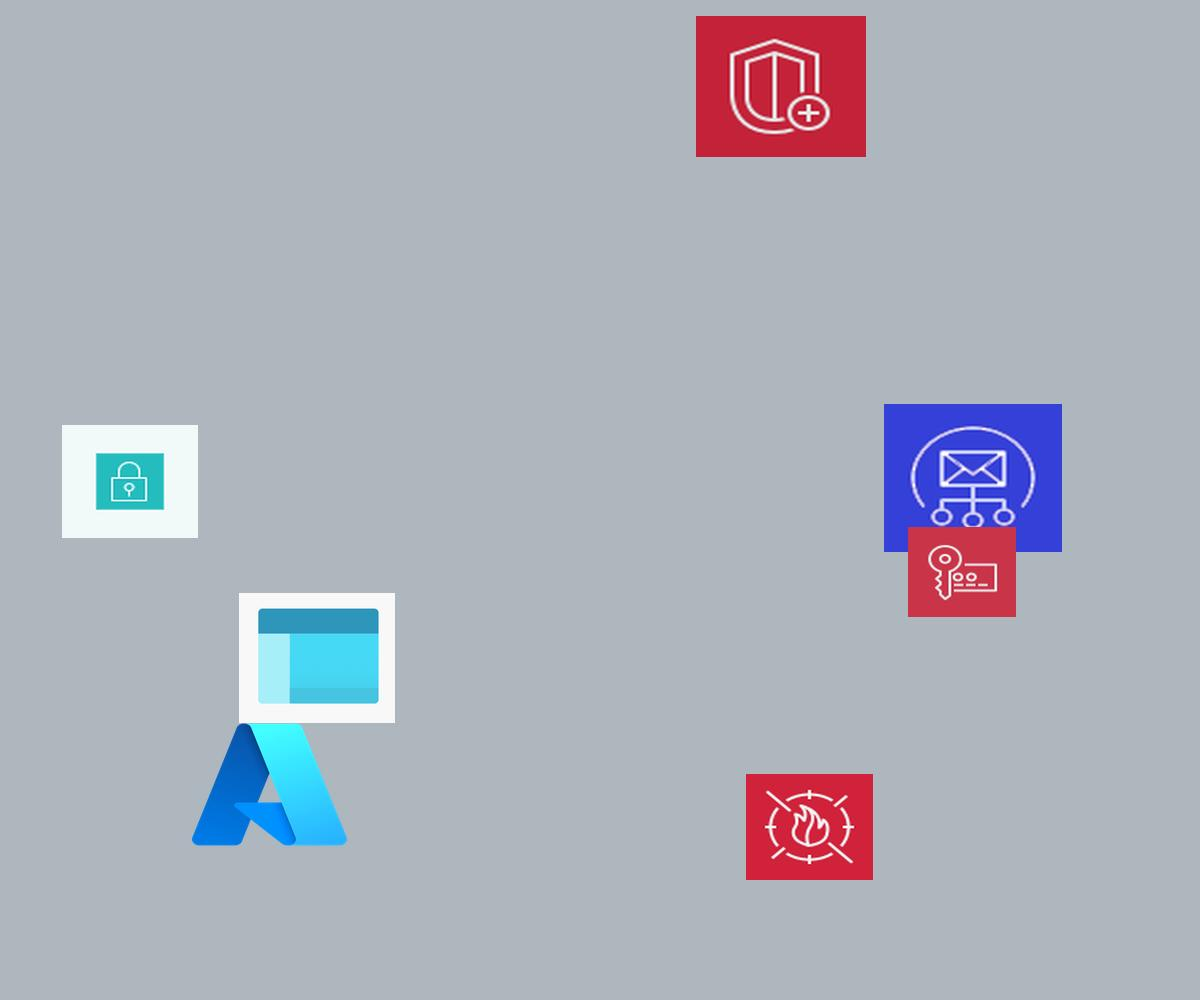AWS-Key-Management-Service: (908, 527, 1016, 617)
AWS-Private-subnet: (62, 425, 198, 538)
AWS-Shield: (696, 16, 866, 157)
AWS-Simple-Email-Service: (884, 404, 1062, 552)
AWS-WAF: (746, 774, 873, 880)
Azure_management-portal: (239, 593, 395, 723)
Azure_services: (185, 714, 354, 855)
